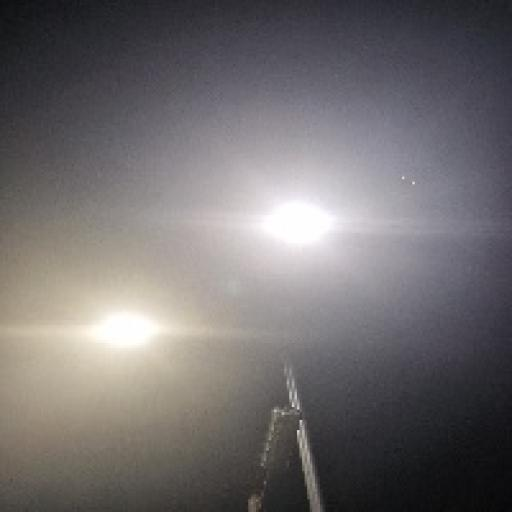Working: (245, 186, 343, 255), (72, 307, 178, 365)
